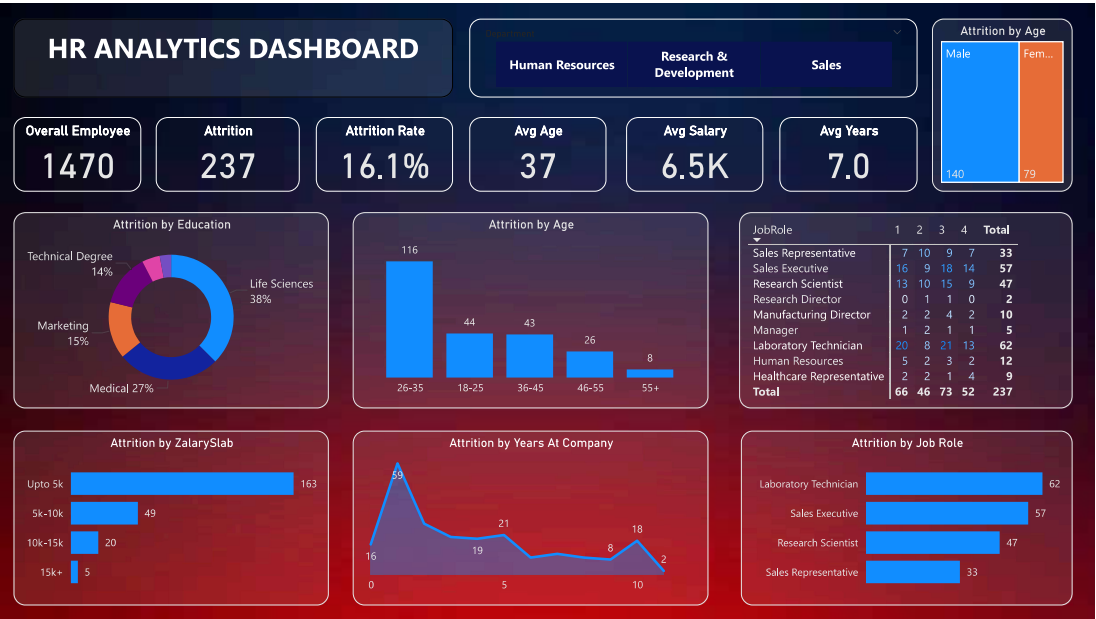

The dashboard page shown, as its layout file describes it:
{"tool":"powerbi","page":{"name":"Page 1","canvas":[1280,720],"ordinal":0},"visuals":[{"type":"card","title":"Overall Employee","fields":{"Values":["CountNonNull(HR_Analytics.EmpID)"]},"box":[19.1,131.9,148.9,87.2],"z":0},{"type":"card","title":"Attrition","fields":{"Values":["Sum(HR_Analytics.AttritionCount)"]},"box":[185.1,131.9,168.1,87.2],"z":1000},{"type":"card","title":"Attrition Rate","fields":{"Values":["HR_Analytics.AttritionRate"]},"box":[372.3,131.9,159.6,87.2],"z":2000},{"type":"card","title":"Avg Age","fields":{"Values":["Avg(HR_Analytics.Age)"]},"box":[551.1,131.9,159.6,87.2],"z":3000},{"type":"card","title":"Avg Salary","fields":{"Values":["Avg(HR_Analytics.MonthlyIncome)"]},"box":[734,131.9,159.6,87.2],"z":4000},{"type":"card","title":"Avg Years","fields":{"Values":["Avg(HR_Analytics.YearsAtCompany)"]},"box":[912.8,131.9,161.7,87.2],"z":5000},{"type":"donutChart","title":"Attrition by Education","fields":{"Category":["HR_Analytics.EducationField"],"Y":["Sum(HR_Analytics.AttritionCount)"]},"box":[19.1,242.6,368.1,229.8],"z":6000},{"type":"columnChart","title":"Attrition by Age","fields":{"Category":["HR_Analytics.AgeGroup"],"Y":["Sum(HR_Analytics.AttritionCount)"]},"box":[414.9,242.6,414.9,229.8],"z":7000},{"type":"pivotTable","fields":{"Rows":["HR_Analytics.JobRole"],"Columns":["HR_Analytics.JobSatisfaction"],"Values":["Sum(HR_Analytics.AttritionCount)"]},"box":[866,242.6,389.4,229.8],"z":8000},{"type":"barChart","title":"Attrition by ZalarySlab","fields":{"Category":["HR_Analytics.SalarySlab"],"Y":["Sum(HR_Analytics.AttritionCount)"]},"box":[19.1,497.9,368.1,204.3],"z":9000},{"type":"barChart","title":"Attrition by Job Role","fields":{"Category":["HR_Analytics.JobRole"],"Y":["Sum(HR_Analytics.AttritionCount)"]},"box":[868.1,497.9,387.2,204.3],"z":10000},{"type":"areaChart","title":"Attrition by Years At Company","fields":{"Category":["HR_Analytics.YearsAtCompany"],"Y":["Sum(HR_Analytics.AttritionCount)"]},"box":[414.9,497.9,414.9,204.3],"z":11000},{"type":"treemap","title":"Attrition by Age","fields":{"Group":["HR_Analytics.Gender"],"Values":["Sum(HR_Analytics.AttritionCount)"]},"box":[1091.5,17,163.8,202.1],"z":12000},{"type":"slicer","fields":{"Values":["HR_Analytics.Department"]},"box":[551.1,17,523.4,91.5],"z":12001},{"type":"textbox","box":[19.1,17,512.8,91.5],"z":12002}]}

Visuals, with their boxes in screenshot pixels (x1, y1, x2, y2), scaled from the page's 1280x720 canvas onto the 1096x619 screenshot:
"Overall Employee" card: (16, 113, 144, 188)
"Attrition" card: (158, 113, 302, 188)
"Attrition Rate" card: (319, 113, 455, 188)
"Avg Age" card: (472, 113, 609, 188)
"Avg Salary" card: (628, 113, 765, 188)
"Avg Years" card: (782, 113, 920, 188)
"Attrition by Education" donutChart: (16, 209, 332, 406)
"Attrition by Age" columnChart: (355, 209, 711, 406)
pivotTable - HR_Analytics.JobRole x HR_Analytics.JobSatisfaction: (742, 209, 1075, 406)
"Attrition by ZalarySlab" barChart: (16, 428, 332, 604)
"Attrition by Job Role" barChart: (743, 428, 1075, 604)
"Attrition by Years At Company" areaChart: (355, 428, 711, 604)
"Attrition by Age" treemap: (935, 15, 1075, 188)
slicer - HR_Analytics.Department: (472, 15, 920, 93)
textbox: (16, 15, 455, 93)
